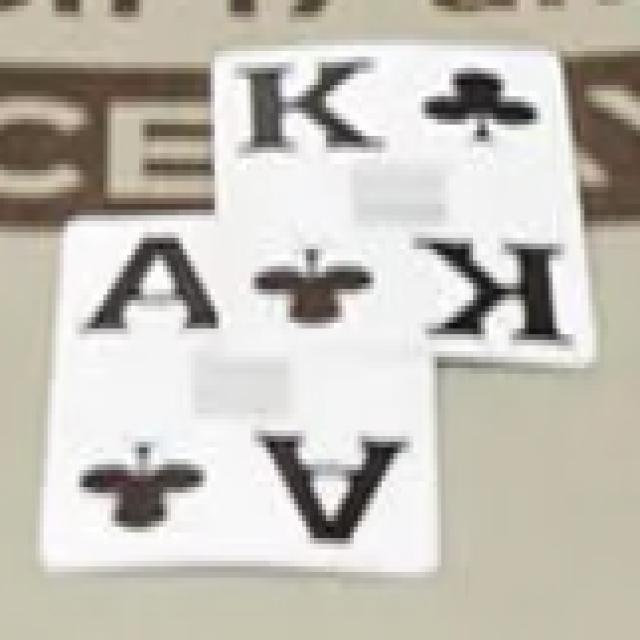Card-A: (44, 213, 439, 569)
Card-K: (216, 49, 595, 360)
